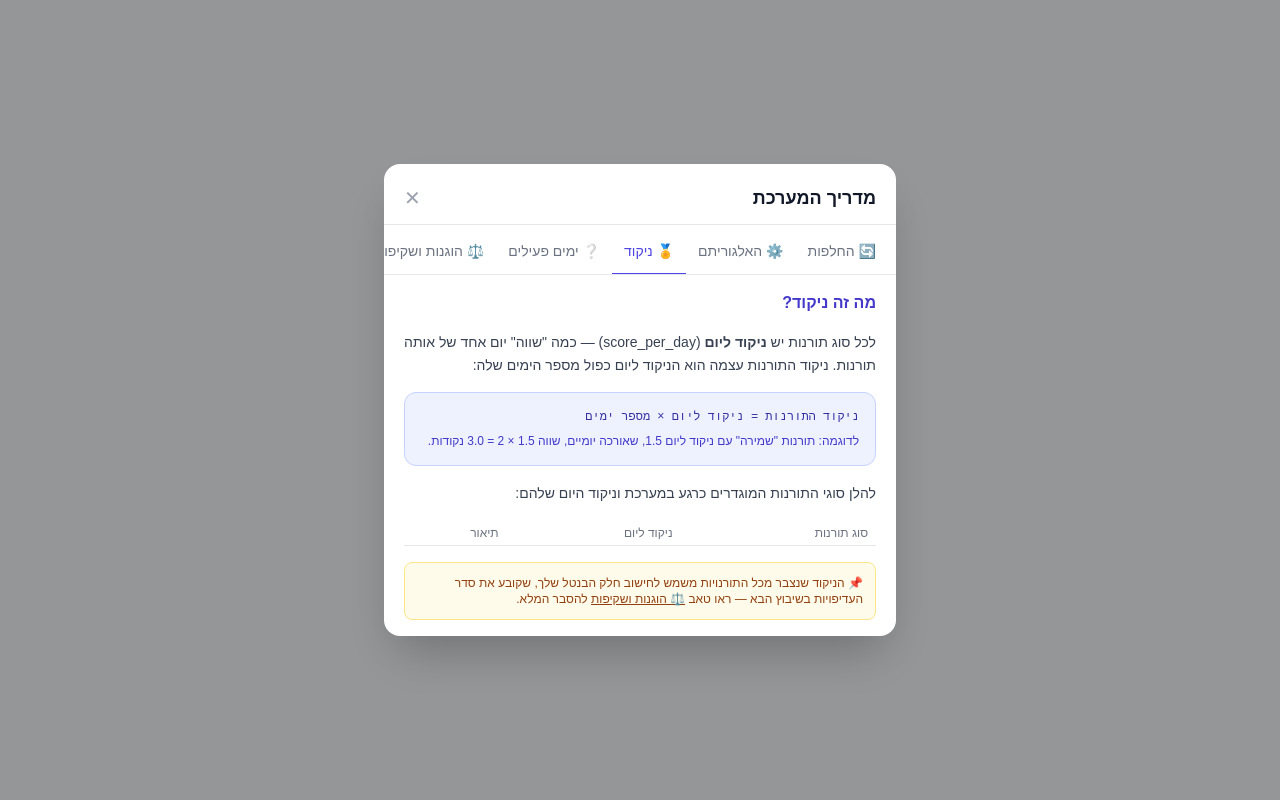
Test case: scoring tab's fairness mention is a link that switches to the fairness tab
Click the button with test id "scoring-tab-fairness-link" at (638, 599), box [591, 591, 685, 607]
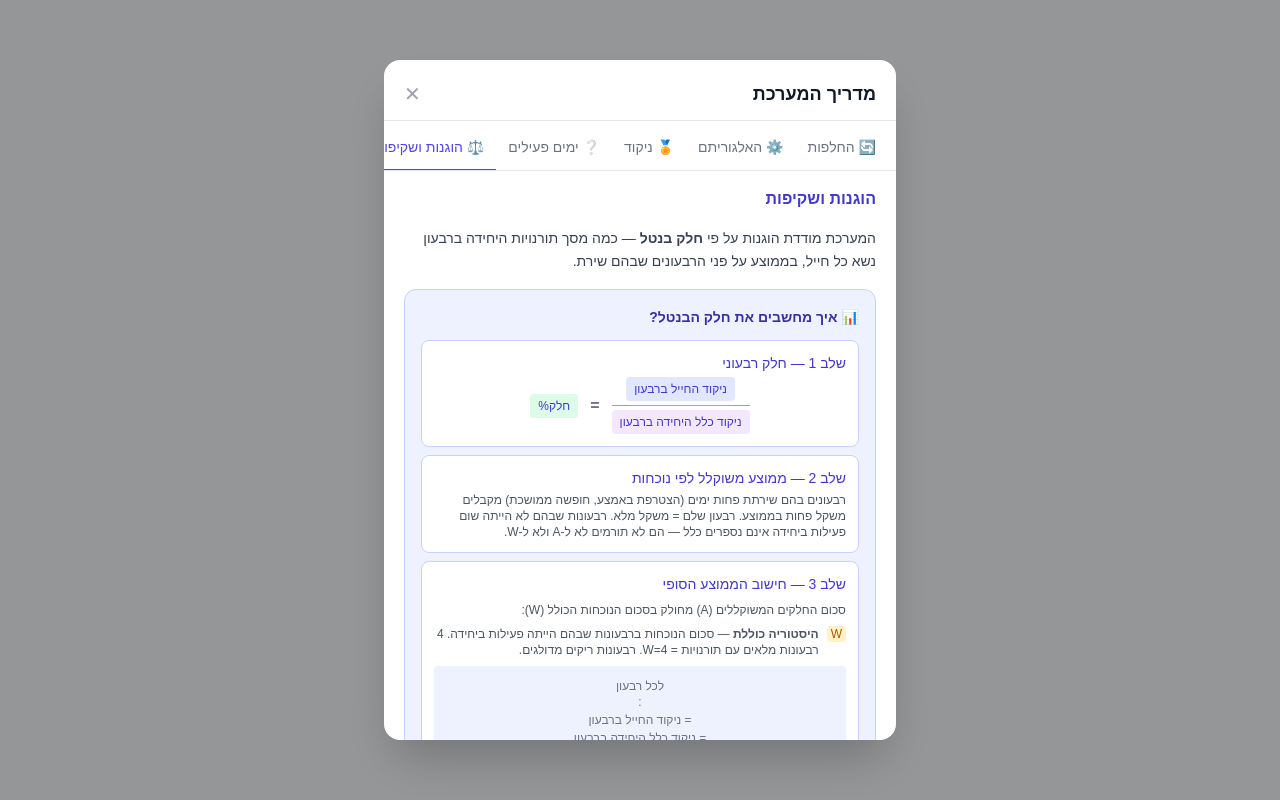
Now the heading "הוגנות ושקיפות" is shown, box [766, 190, 876, 207]
